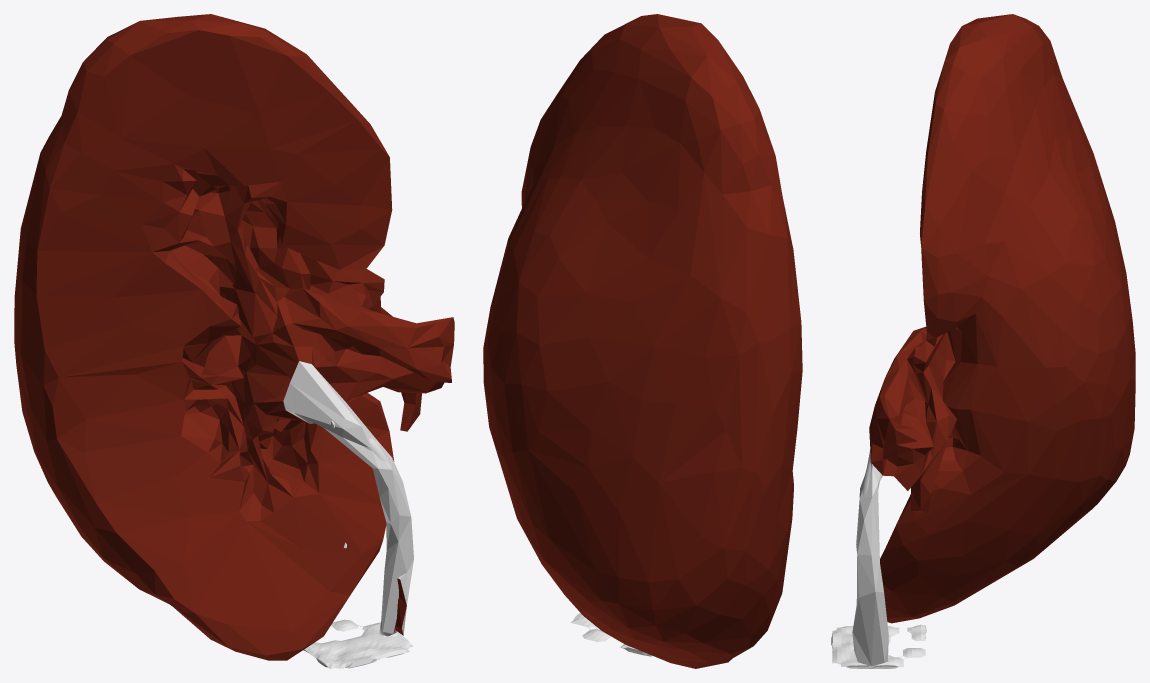
File: test-animation.gltf
3 renders of one model, left to right at view 1: azimuth 30°, elevation 25°; view 2: azimuth 150°, elevation 25°; view 3: azimuth 270°, elevation 25°, orthographic. The views are drawn at different scales.
Visible parts, largest first — view 1: MainKidney.001, Cube.001; view 2: MainKidney.001, Cube.001; view 3: MainKidney.001, Cube.001.
Boxes of the visible parts, x1,y1,x2,y2 form: MainKidney.001: (14,14,454,660); Cube.001: (303,421,413,668); MainKidney.001: (483,14,802,668); Cube.001: (570,612,652,656); MainKidney.001: (852,14,1135,666); Cube.001: (831,624,926,668).
Size of the model in its own units: 53.47 by 89.72 by 42.81.
